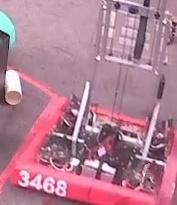red_number: (16, 168, 70, 200)
